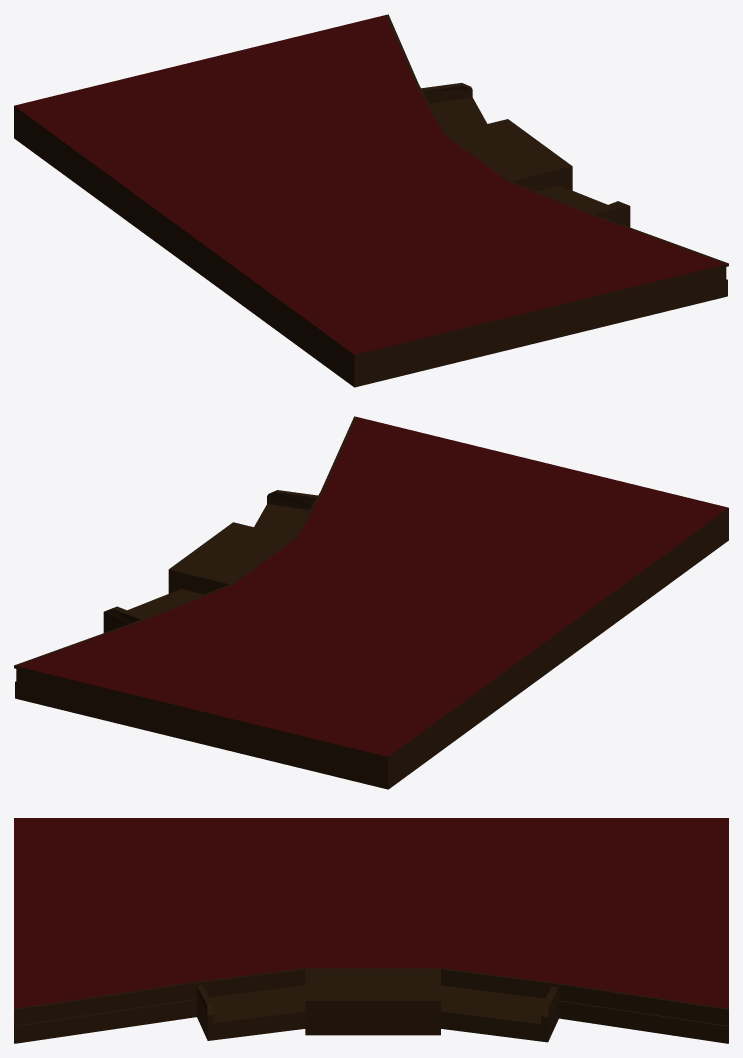
File: stage.fbx
3 views of the same model, one above another, from view 1: azimuth 30°, elevation 25°; view 2: azimuth 150°, elevation 25°; view 3: azimuth 270°, elevation 25° (orthographic). The views are drawn at different scales.
Visible parts, largest first — view 1: polySurface7; view 2: polySurface7; view 3: polySurface7.
Part boxes in pixels (box(x1,y1,x2,y2)): polySurface7: box(14, 14, 728, 387); polySurface7: box(14, 416, 728, 789); polySurface7: box(14, 818, 728, 1043).
Size of the model in its own units: 6.94 by 0.5789 by 10.92.
